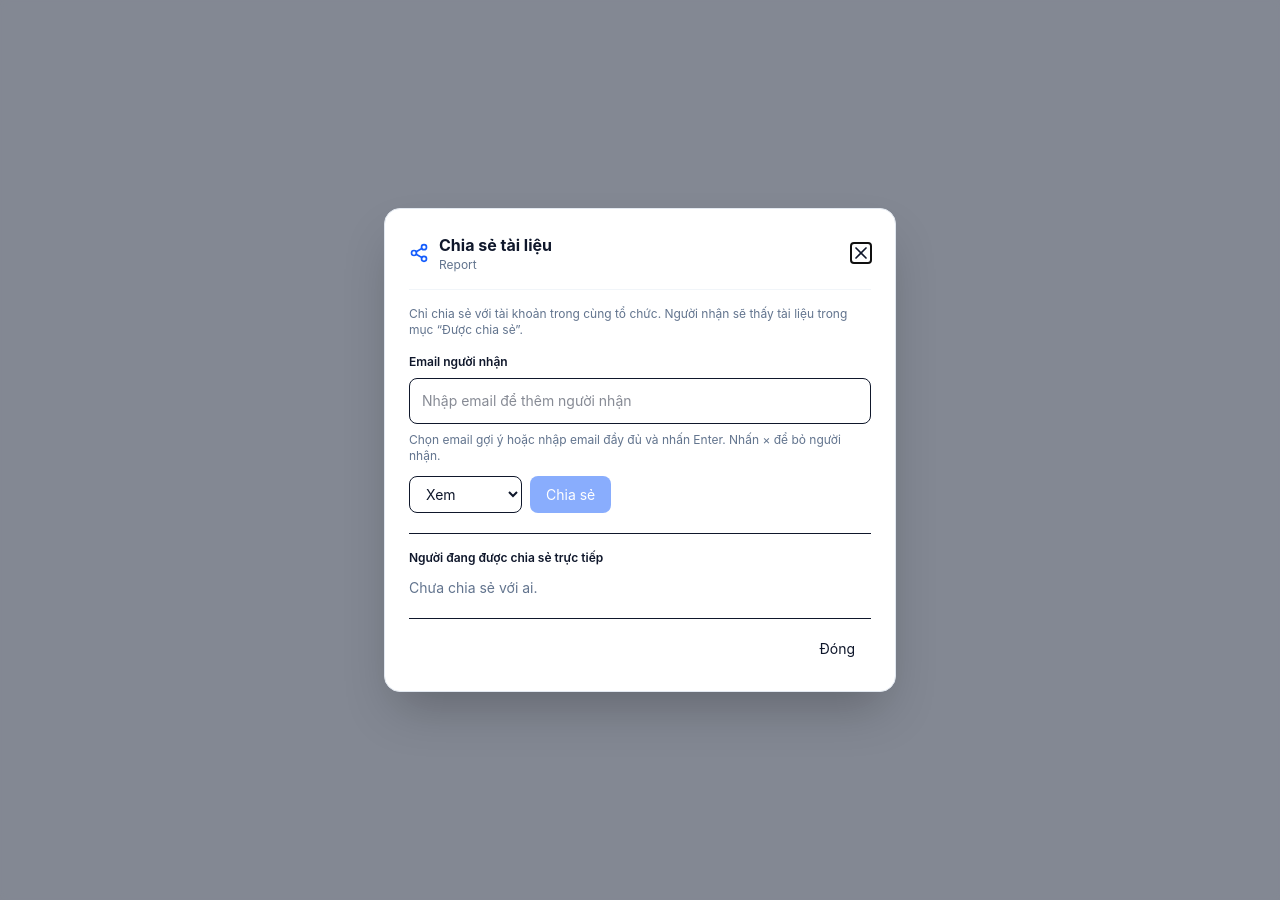
Sharing recipient picker › discards outdated lookup responses and excludes already selected accounts
Type "a" into the dropdown labelled "Email người nhận" at [640, 401], box [418,387,862,415]
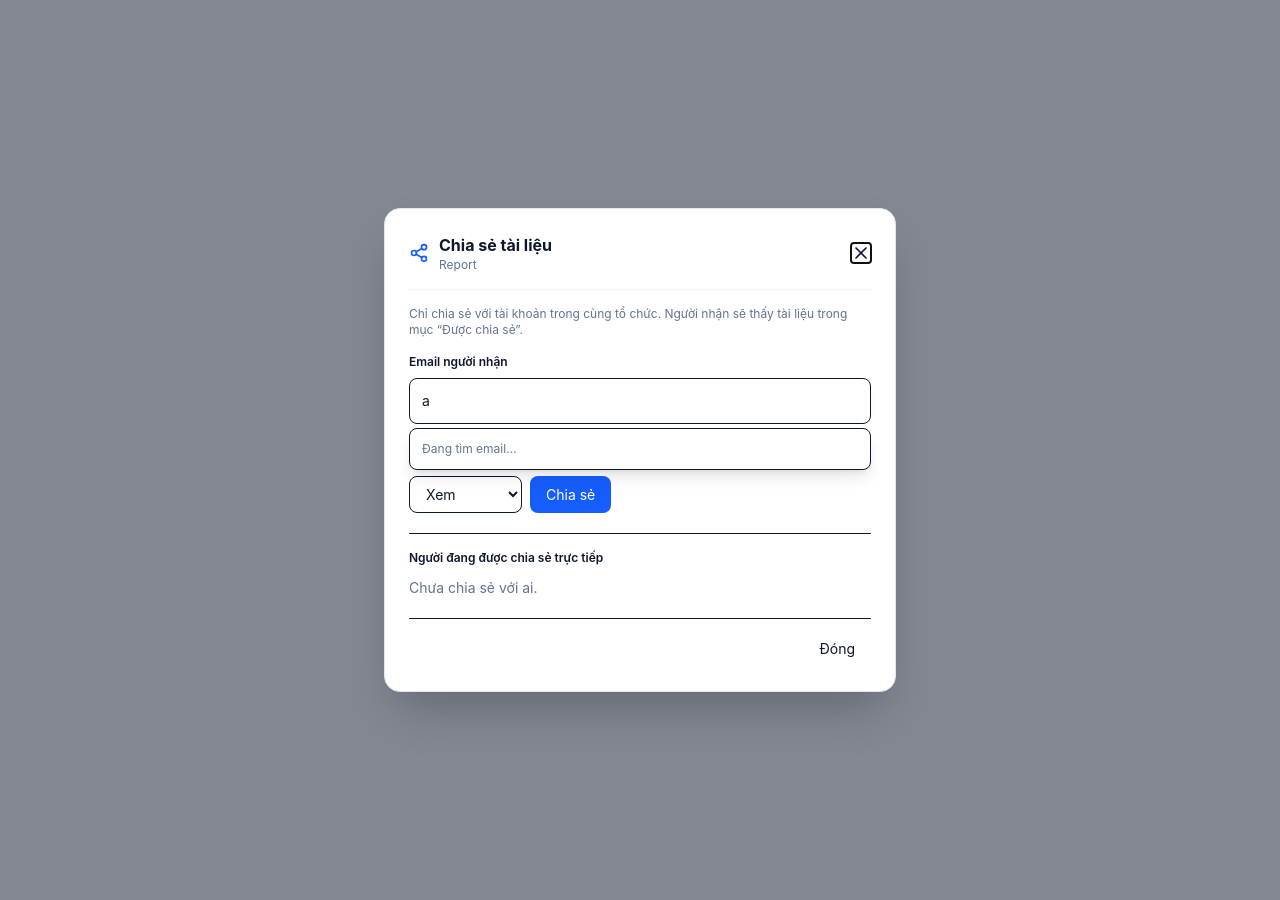
Replace the text in the dropdown labelled "Email người nhận" with "b" at [640, 401], box [418,387,862,415]
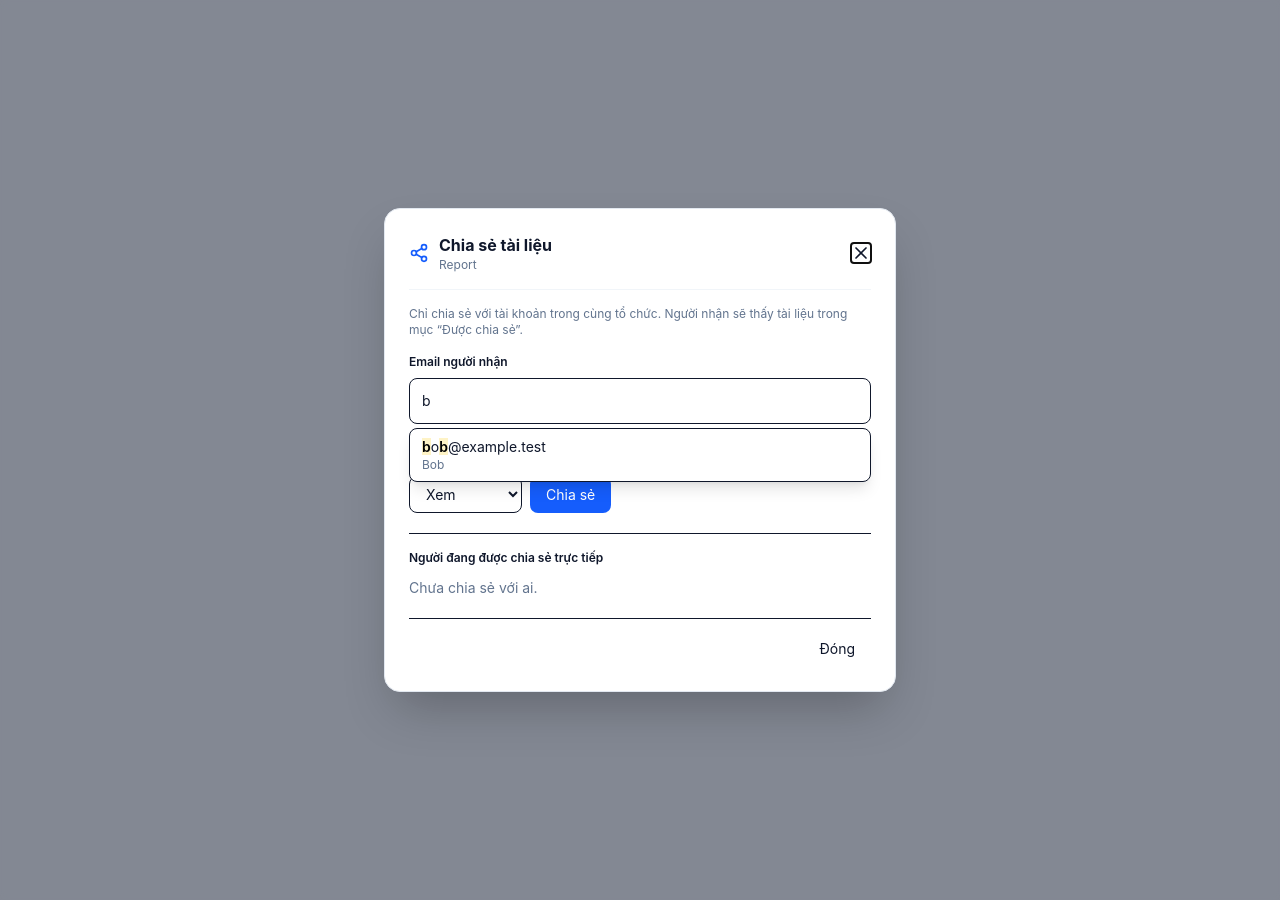
Click the option "bob@example.test Bob" at [484, 455], box [422,438,546,472]
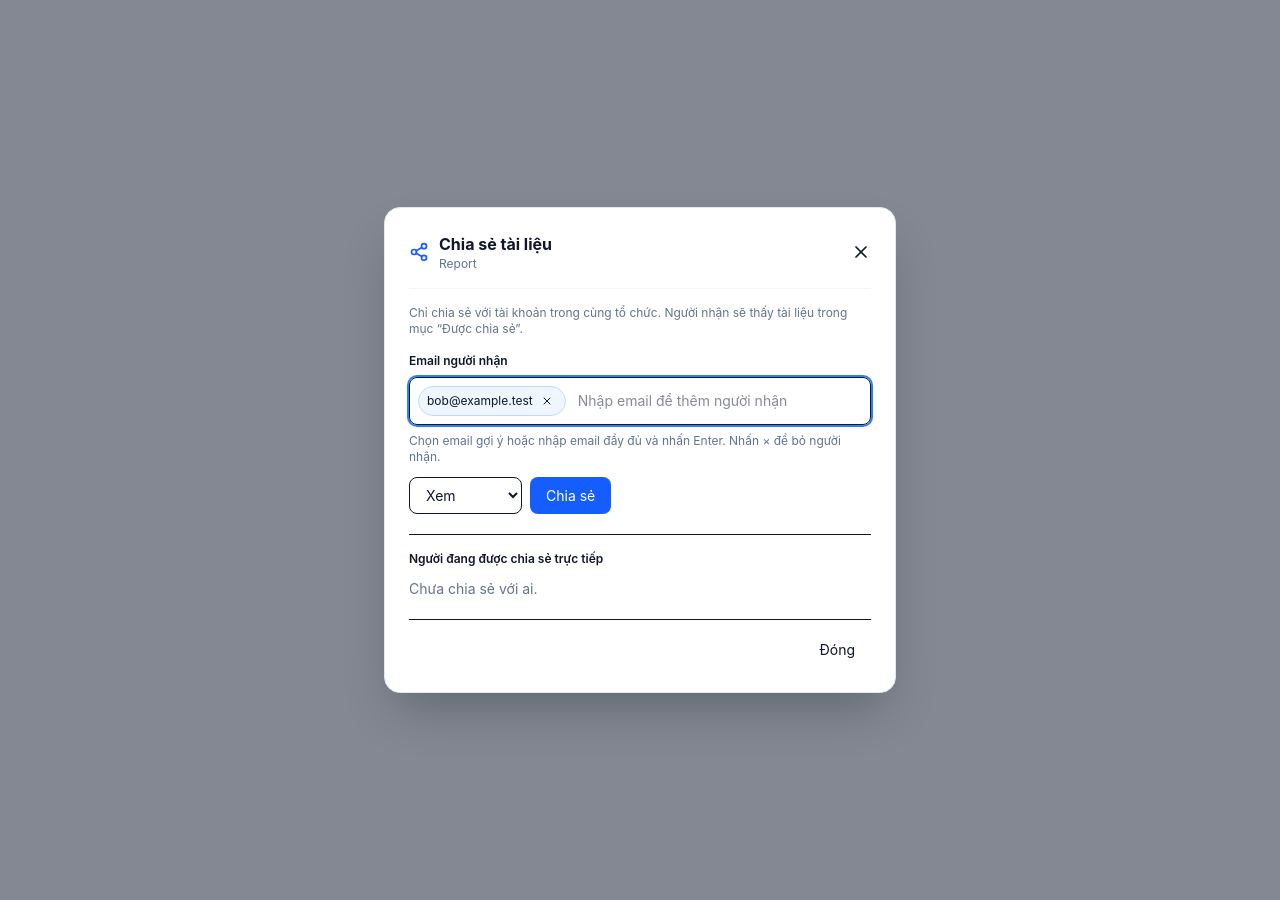
Type "bob" into the dropdown labelled "Email người nhận" at [718, 401], box [574,386,862,416]
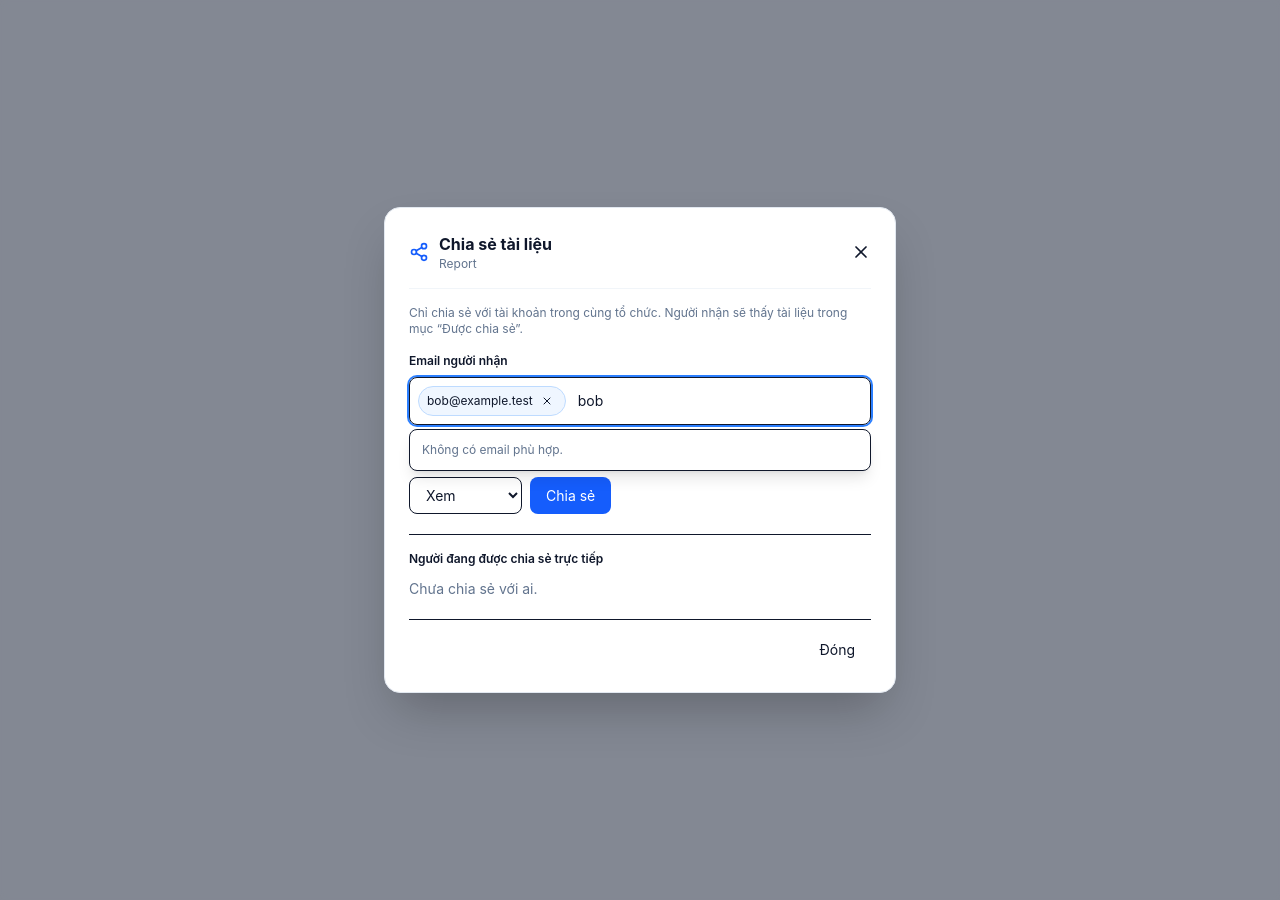
expect the text "Không có email phù hợp." is shown: met, box [422,442,563,457]
